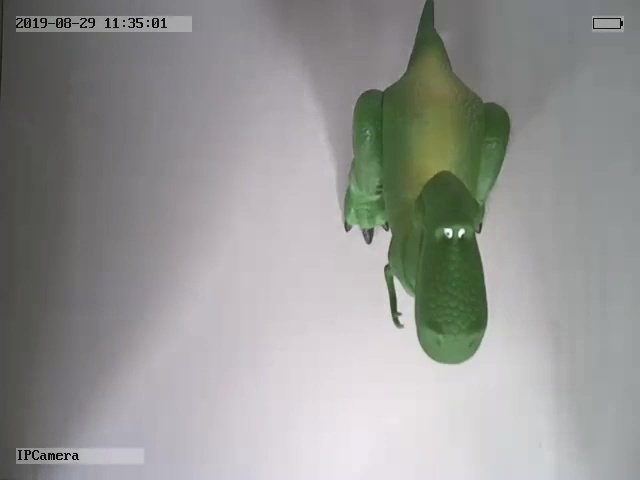rex: (340, 2, 510, 364)
